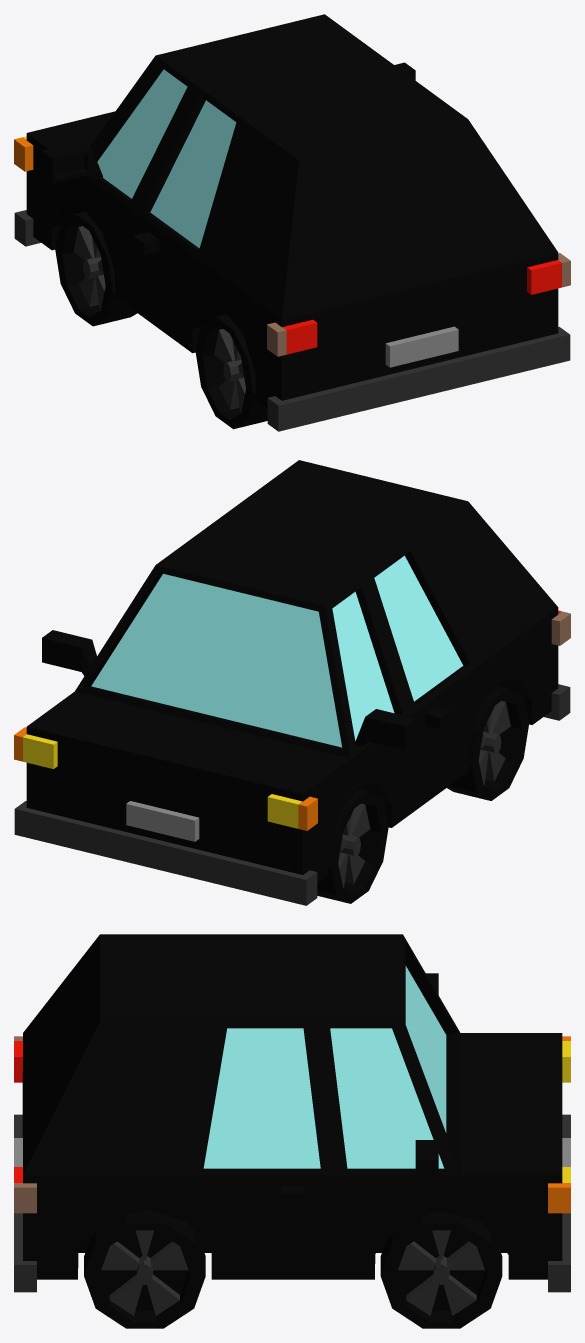
Rendered from ObsticleCar_2.fbx.
3 renders of one model, top to bottom at view 1: azimuth 30°, elevation 25°; view 2: azimuth 150°, elevation 25°; view 3: azimuth 270°, elevation 25°, orthographic. The views are drawn at different scales.
Visible parts, largest first — view 1: Cube.004; view 2: Cube.004; view 3: Cube.004.
Boxes of the visible parts, <box> form: Cube.004: <box>14,14,570,431</box>; Cube.004: <box>14,460,570,905</box>; Cube.004: <box>14,934,570,1328</box>.
Size of the model in its own units: 328 by 229 by 413.
1 material, 1 textured.
